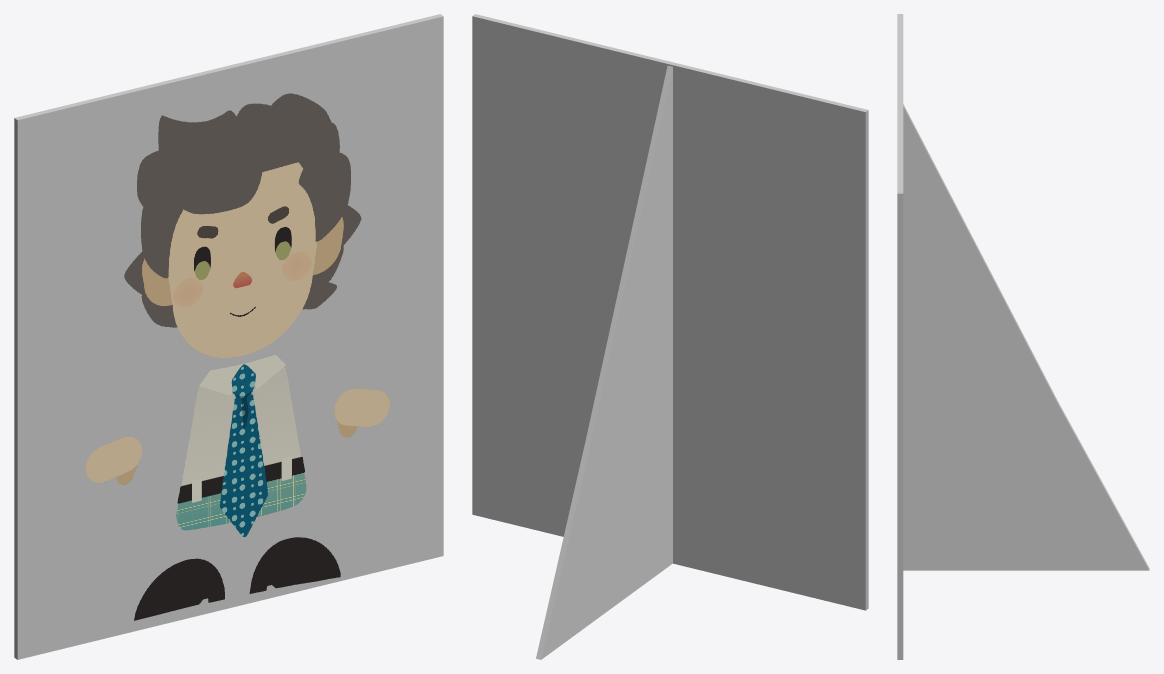
The model's file is Juge_01.fbx.
3 renders of one model, left to right at view 1: azimuth 30°, elevation 25°; view 2: azimuth 150°, elevation 25°; view 3: azimuth 270°, elevation 25°, orthographic. The views are drawn at different scales.
Visible parts, largest first — view 1: Juge_02.001, Juge_03; view 2: Juge_02.001, Cube.003; view 3: Cube.003, Juge_02.001.
Boxes of the visible parts, x1,y1,x2,y2 form: Juge_02.001: [14, 14, 443, 659]; Juge_03: [85, 93, 389, 620]; Juge_02.001: [472, 14, 868, 610]; Cube.003: [536, 65, 672, 659]; Cube.003: [903, 104, 1149, 570]; Juge_02.001: [897, 14, 903, 659].
Bounding box in the file's own units: 230 × 279 × 137.
3 materials, 1 textured.
